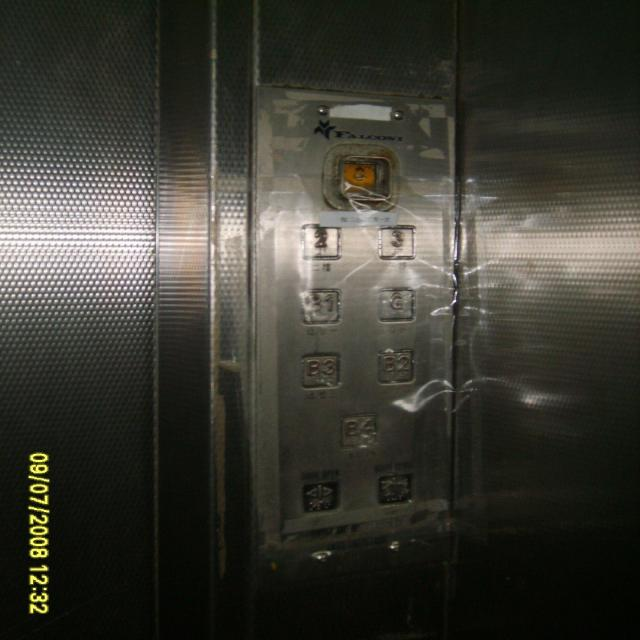2: (301, 224, 341, 260)
3: (377, 224, 416, 260)
B1: (298, 288, 340, 326)
B2: (375, 350, 415, 384)
B3: (299, 352, 342, 390)
B4: (338, 412, 378, 450)
G: (376, 286, 416, 324)
alarm: (337, 154, 392, 202)
close: (376, 472, 411, 507)
open: (300, 480, 339, 514)
